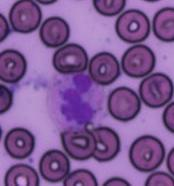N: (47, 70, 108, 132)
